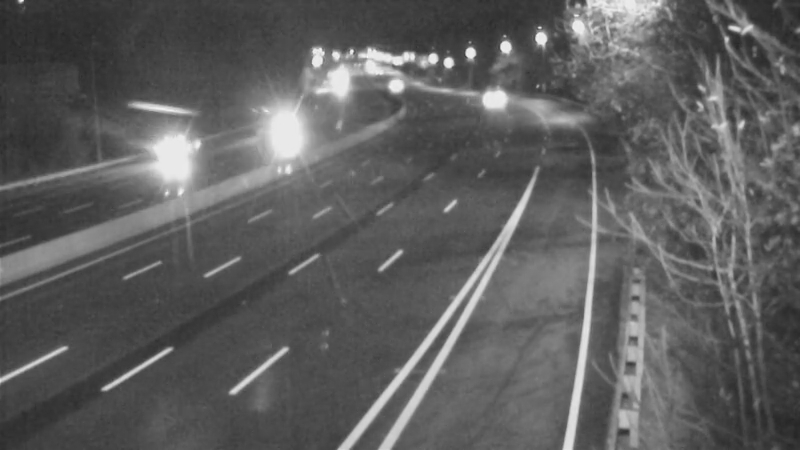vehicle: (131, 117, 211, 197), (369, 59, 419, 109), (455, 68, 505, 118), (254, 108, 304, 158)
